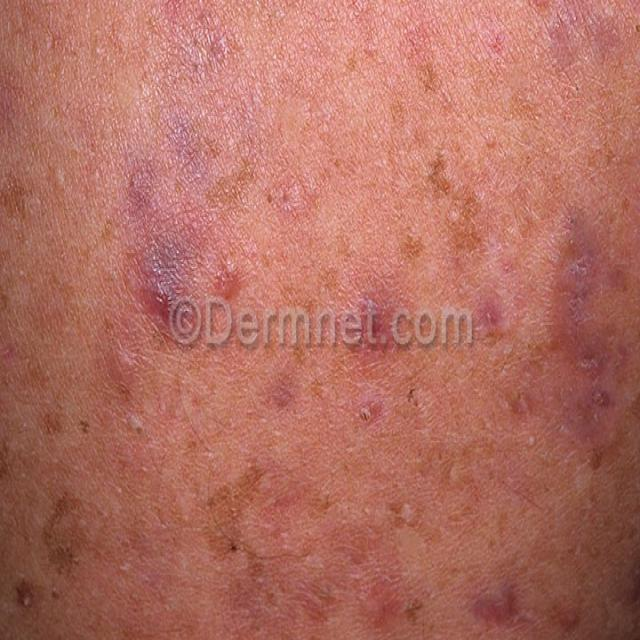acne: (513, 214, 637, 444), (122, 222, 198, 320), (351, 274, 407, 388), (447, 558, 450, 558)
